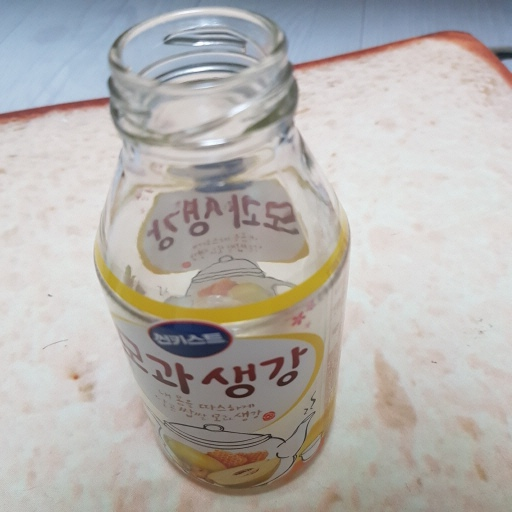Glass_4: (87, 7, 358, 498)
